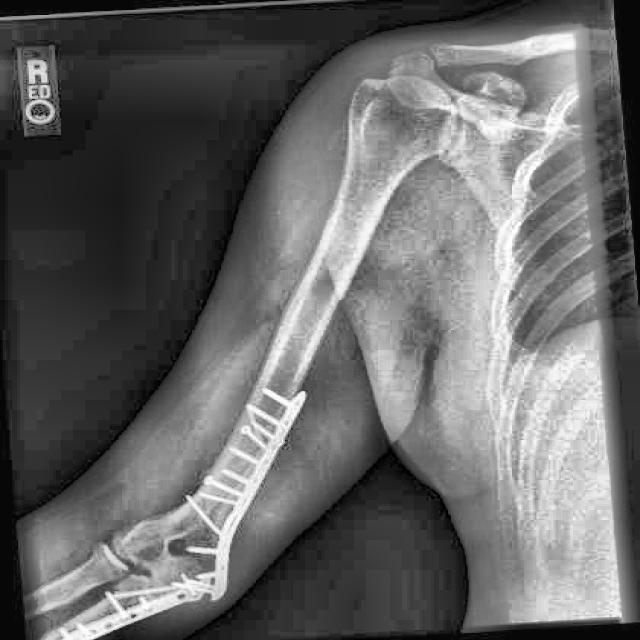humerus: (191, 442, 272, 539)
humerus fracture: (95, 137, 452, 620)
